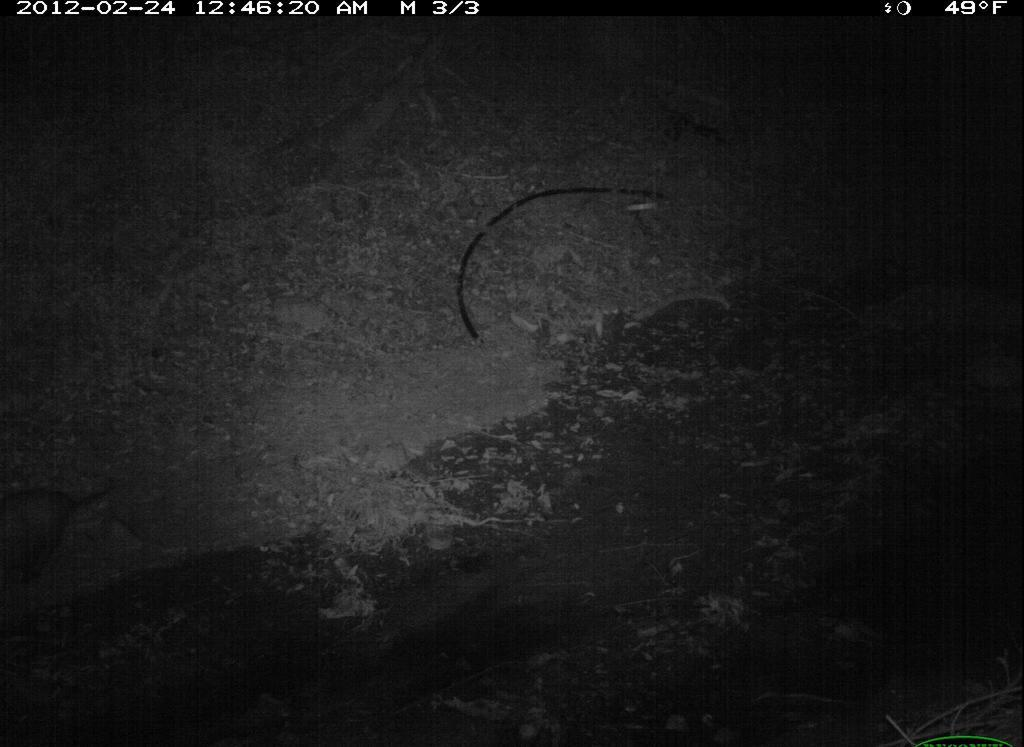opossum: (4, 468, 146, 612)
